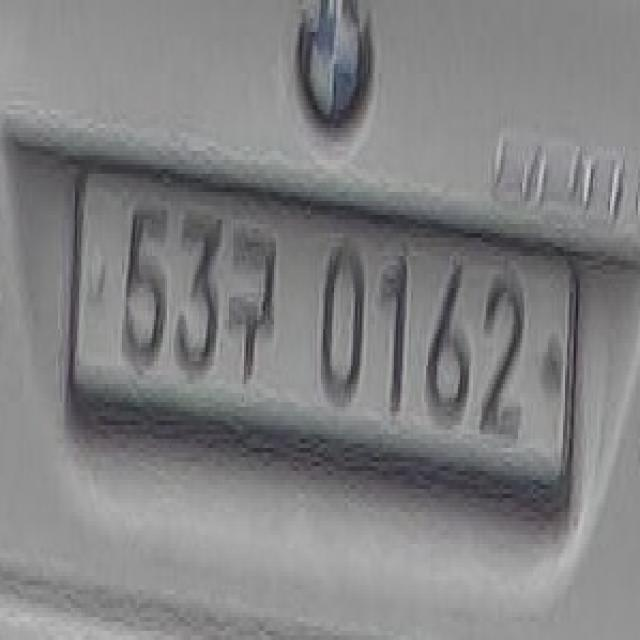0: (312, 233, 372, 412)
1: (372, 247, 422, 411)
2: (478, 274, 540, 443)
3: (176, 187, 229, 384)
5: (122, 197, 171, 370)
6: (424, 256, 479, 434)
gu: (227, 219, 278, 384)
license_plate: (73, 133, 576, 516)
